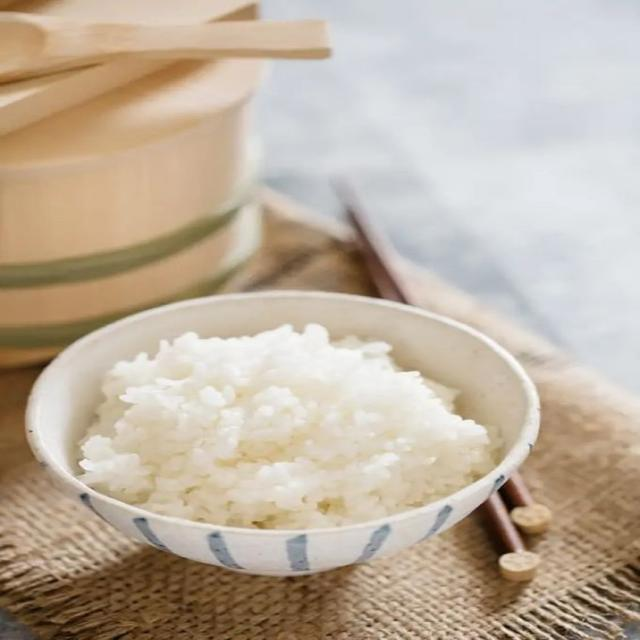nasi_putih: (69, 314, 515, 526)
